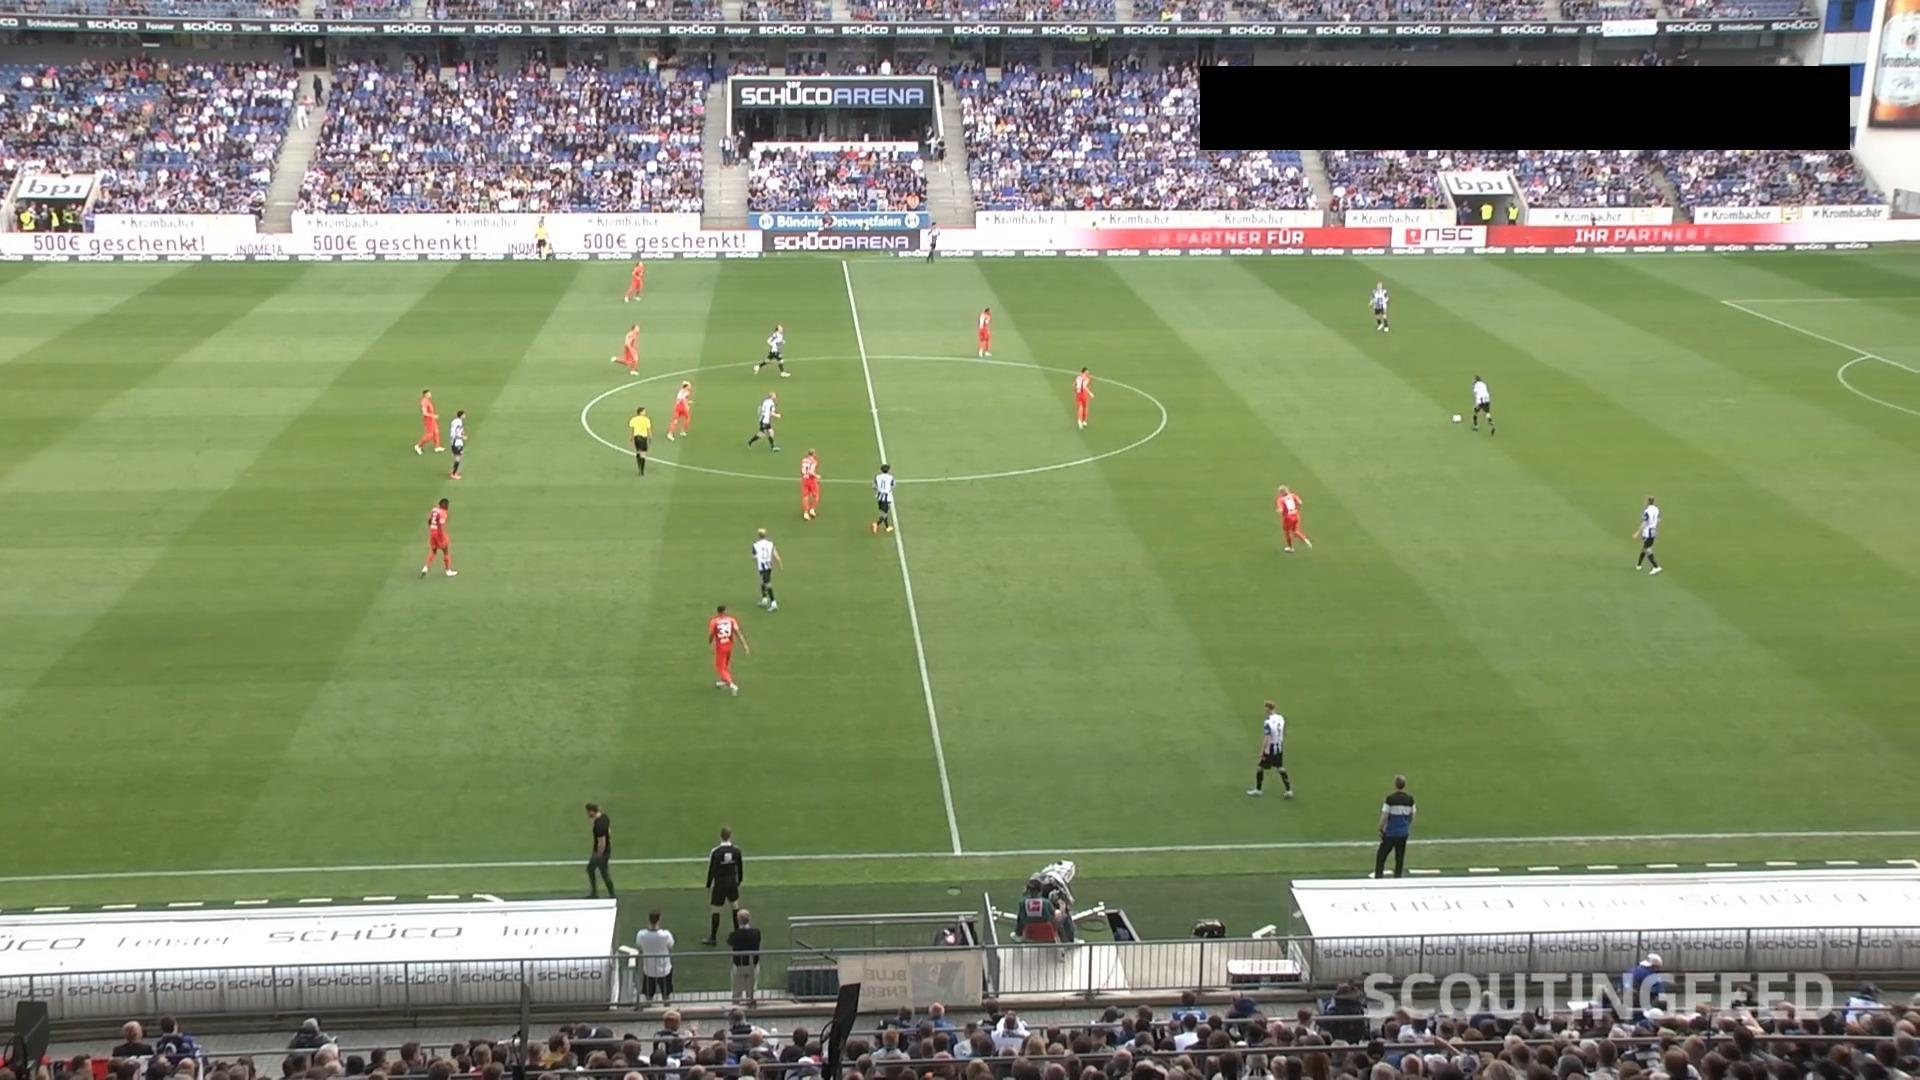ball: (1449, 411, 1464, 423)
